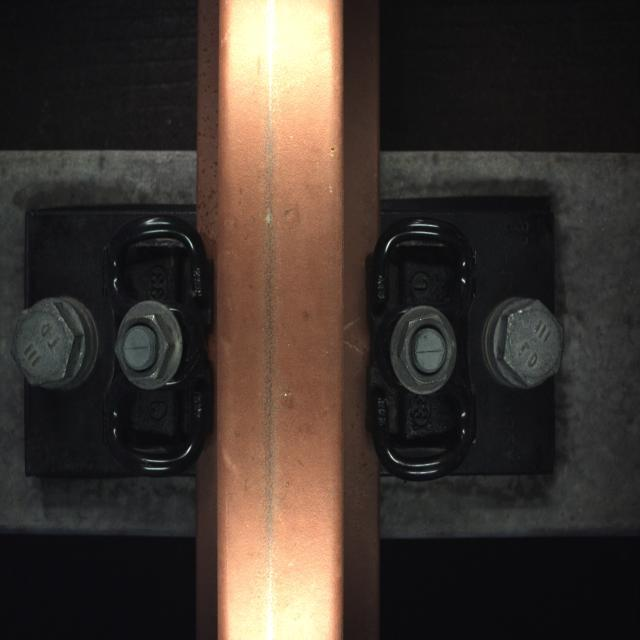normal: (221, 49, 320, 594)
